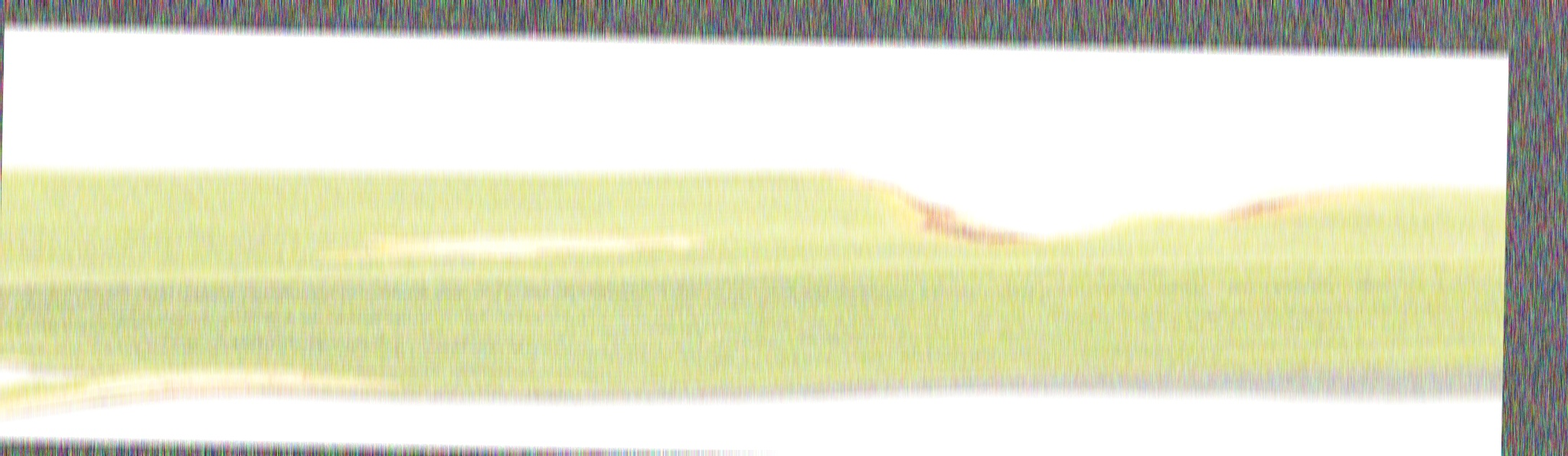Leaf_Blast: (129, 191, 788, 328)
